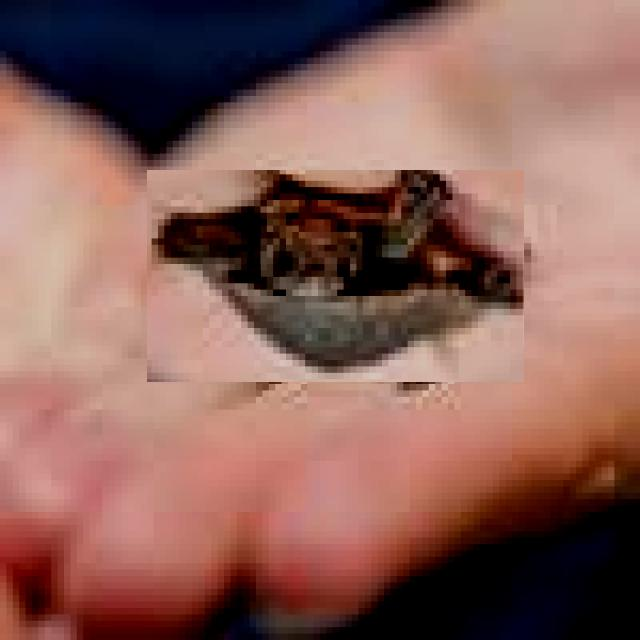Sea turtle: (148, 170, 526, 382)
